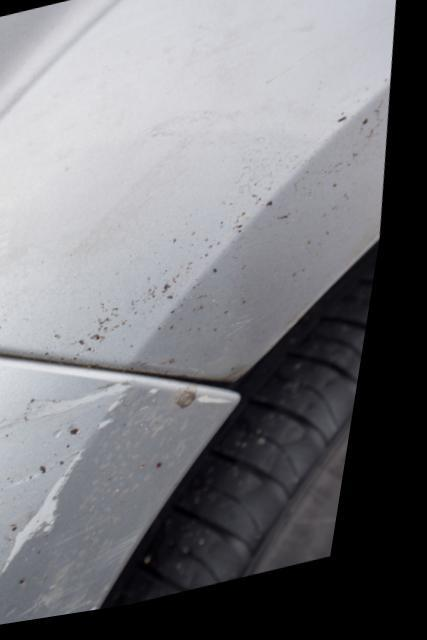scratch: (0, 380, 252, 630)
